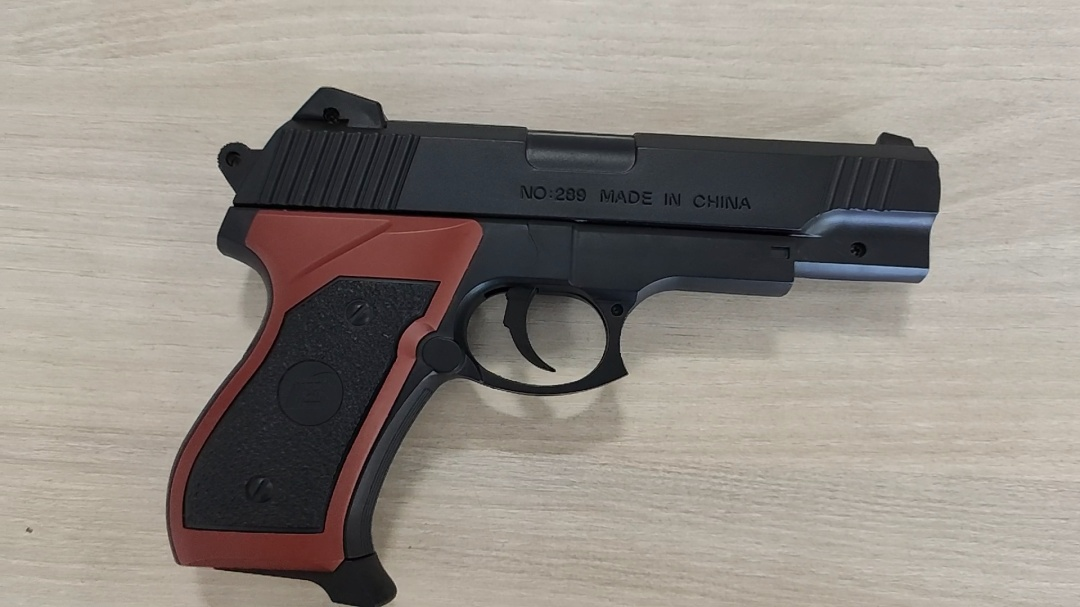gun: (158, 85, 948, 607)
